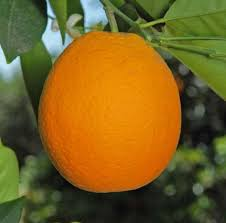orange: (37, 24, 187, 196)
